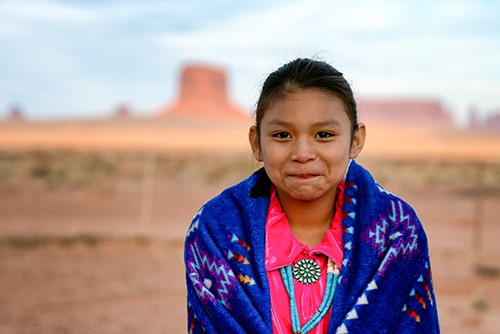face_no_mask: (247, 60, 367, 197)
